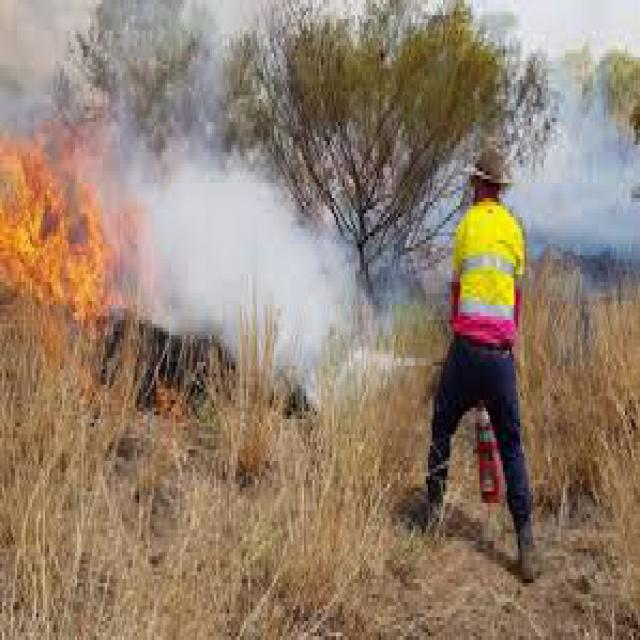Fire: (0, 117, 111, 328)
Smoke: (125, 165, 322, 400)
